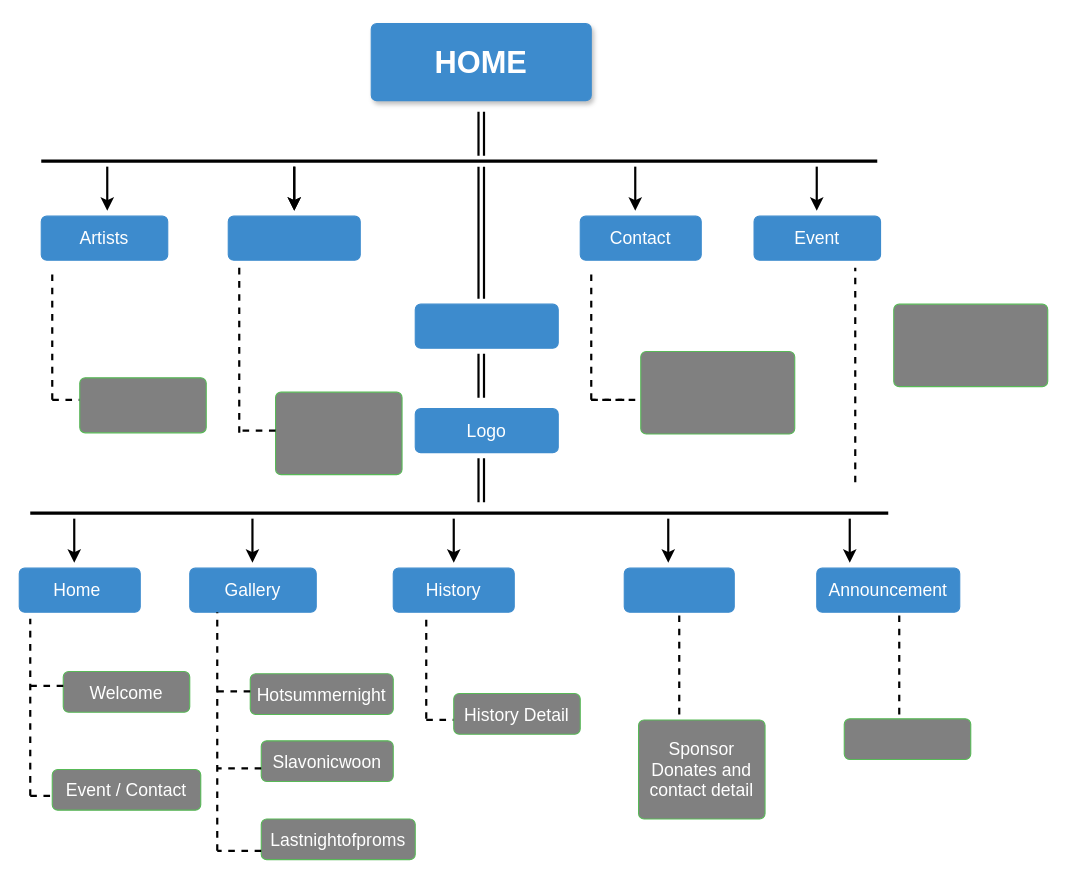
Some shapes in this 1067 by 879 pixel diagram are drawn without their labels. The shapes that lost their labels are listed below. From the top down, each one's centre as x and y in pixels, then its label:
(293,237): About
(486,325): Sing Up
(970,345): Event Information and Contact detail Suppoters
(142,405): Information about Artists
(717,392): Became member sponsor or donate to
(338,433): Information with Contact detail
(678,589): Supporters
(907,739): Information
